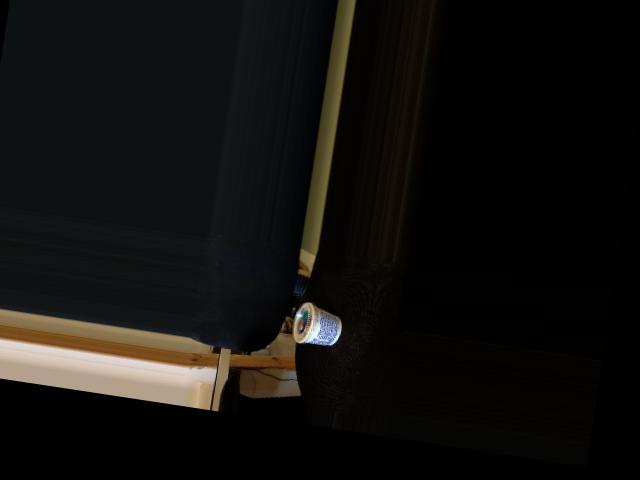cotage: (287, 300, 345, 345)
